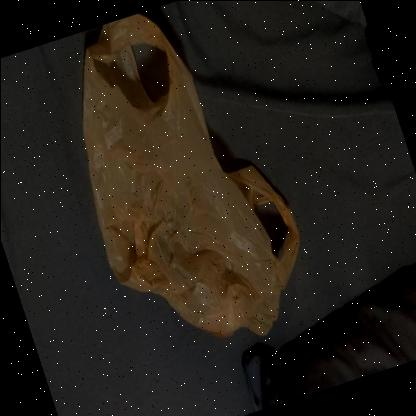Others: (79, 12, 299, 338)
